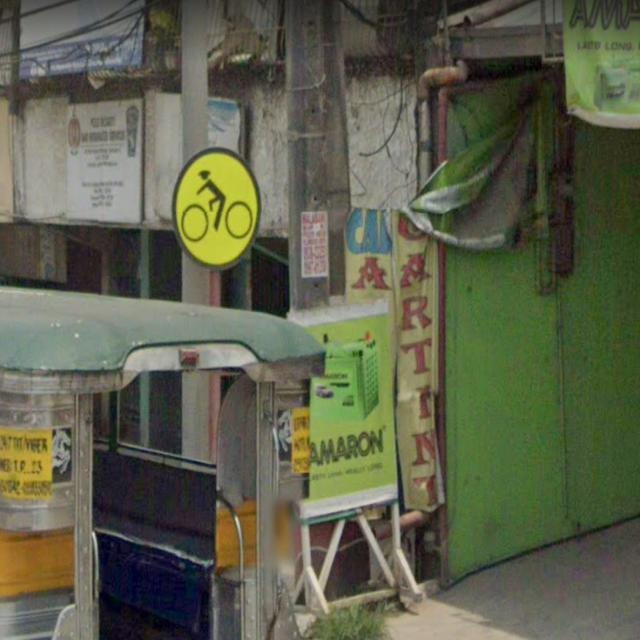bike lane: (172, 148, 261, 268)
